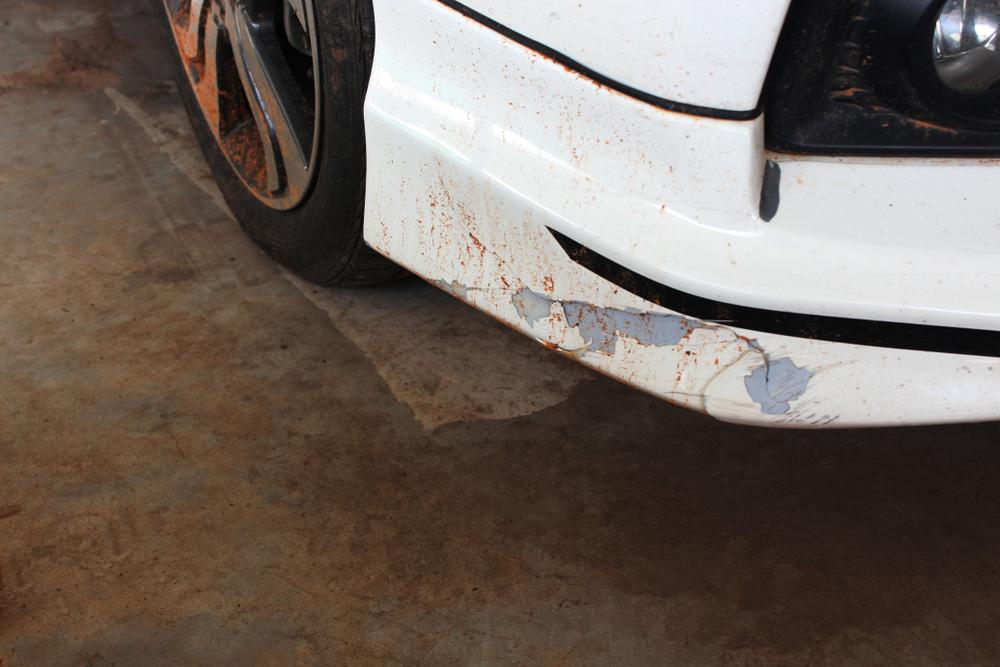scratch: (427, 273, 838, 427)
